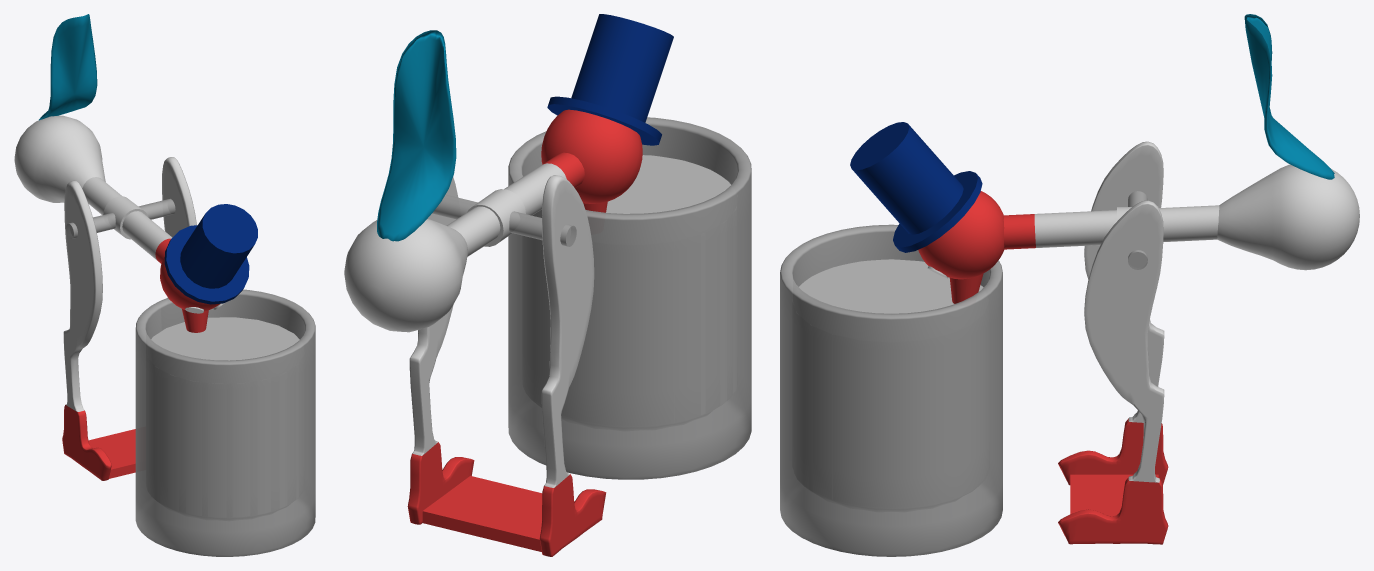
Rendered from DrinkingBird.fbx.
3 renders of one model, left to right at view 1: azimuth 30°, elevation 25°; view 2: azimuth 150°, elevation 25°; view 3: azimuth 270°, elevation 25°, orthographic. The views are drawn at different scales.
Visible parts, largest first — view 1: pCylinder17, pCylinder16; view 2: pCylinder17, pCylinder16; view 3: pCylinder17, pCylinder16.
Part boxes in pixels (x1,y1,x2,y2): pCylinder17: [62, 157, 315, 556]; pCylinder16: [14, 14, 257, 332]; pCylinder17: [407, 117, 751, 556]; pCylinder16: [344, 14, 673, 332]; pCylinder17: [780, 141, 1168, 556]; pCylinder16: [850, 14, 1359, 303].
Bounding box in the file's own units: 4.1 × 10.06 × 10.65.
